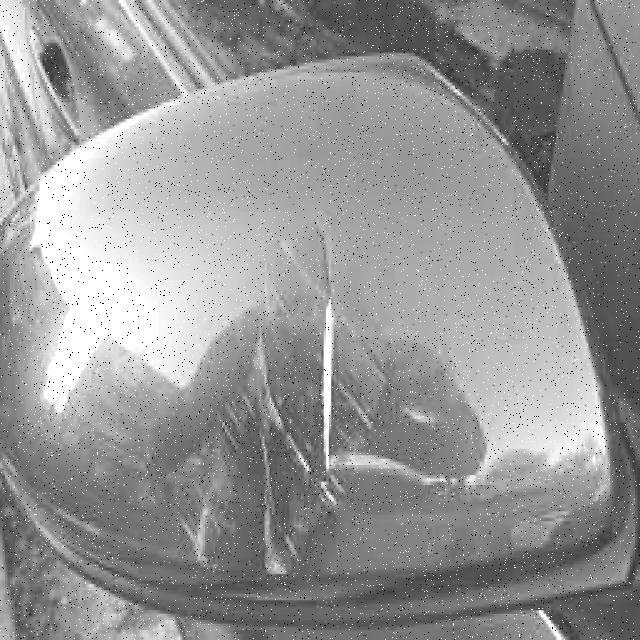car damage: (160, 215, 413, 579)
